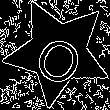O_NE: (27, 20, 89, 85)
